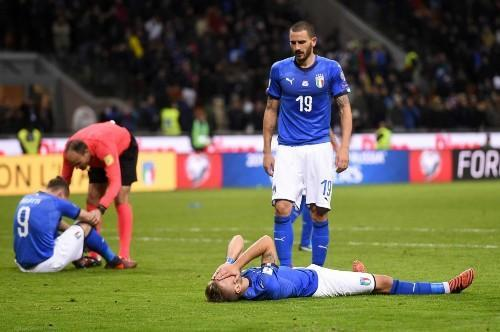bending: (62, 117, 137, 273), (13, 177, 125, 274)
down: (197, 231, 476, 305)
up: (257, 19, 356, 267)
